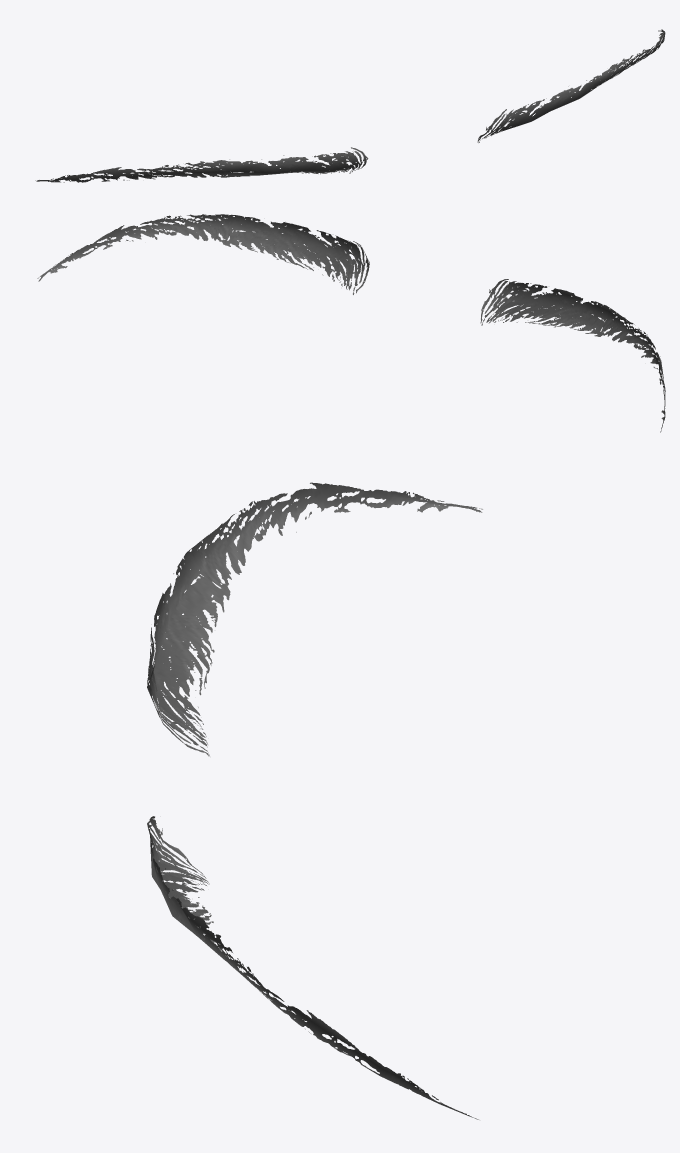
Rendered from brow001.glb.
3 views of the same model, one above another, from view 1: azimuth 30°, elevation 25°; view 2: azimuth 150°, elevation 25°; view 3: azimuth 270°, elevation 25° (orthographic). The views are drawn at different scales.
Visible parts, largest first — view 1: editor_brow001; view 2: editor_brow001; view 3: editor_brow001.
Part boxes in pixels (x1,y1,x2,y2): editor_brow001: (35, 29, 665, 182); editor_brow001: (37, 214, 665, 432); editor_brow001: (147, 482, 482, 1119).
Bounding box in the file's own units: 0.1192 × 0.00937 × 0.031.
Materials: 1 (1 with a texture image).
